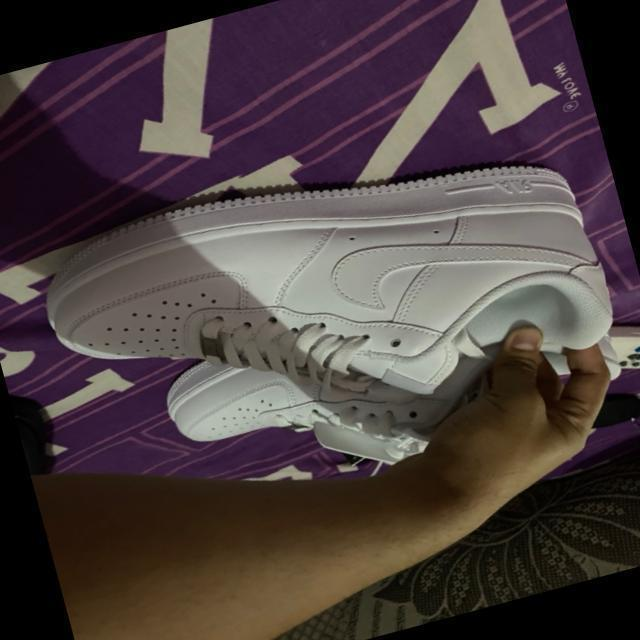nike original air force: (21, 100, 626, 487), (157, 274, 584, 530)
